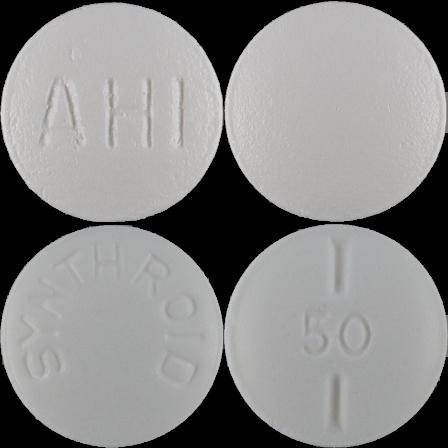66336-533: (0, 0, 224, 224)
